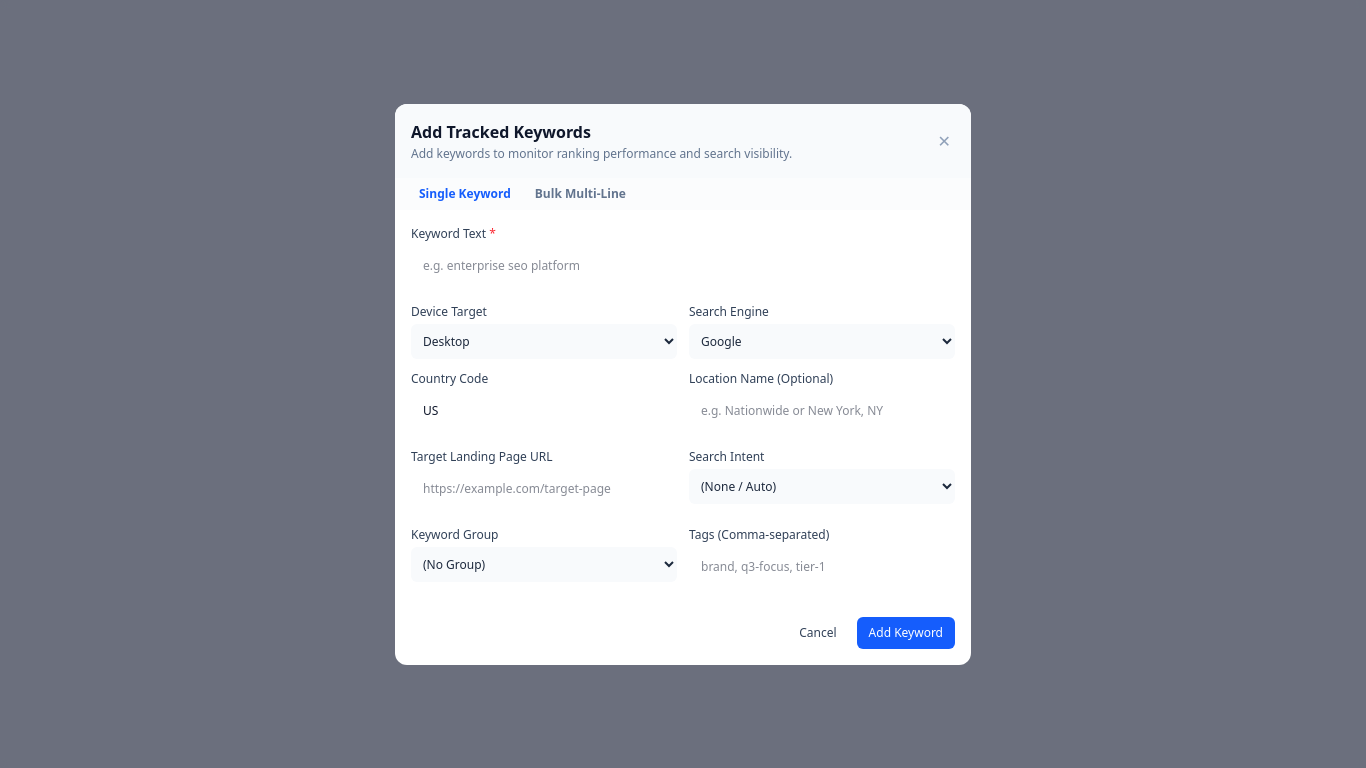
AddKeywordModal Component › handles ApiError properly and displays error message
The width and height of the screenshot is (1366, 768).
Type "existing keyword" into the field labelled "Keyword Text *" at (683, 266), box x1=411 y1=246 x2=955 y2=286
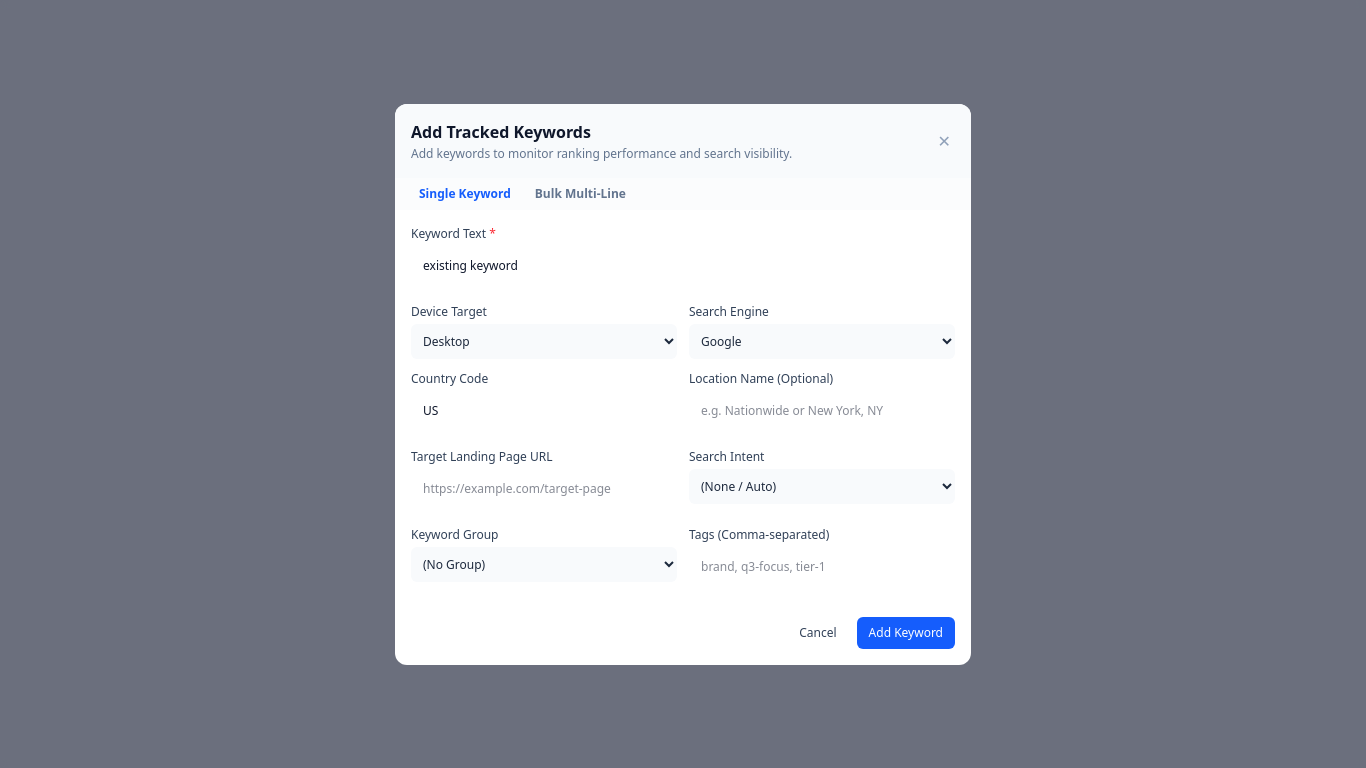
Click the button "Add Keyword" at (906, 632), box x1=857 y1=616 x2=955 y2=648
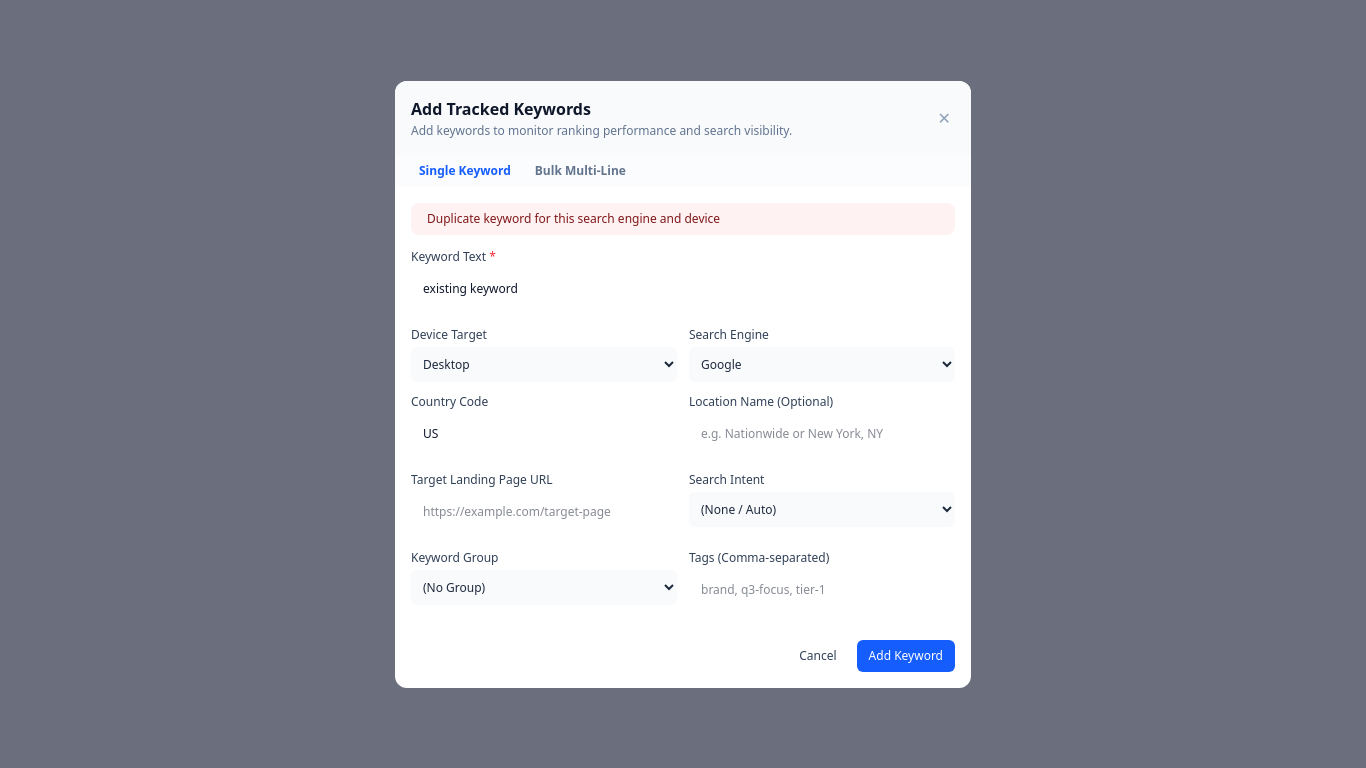
Result: the text "Duplicate keyword for this search engine and device" is shown at x1=411 y1=202 x2=955 y2=234
